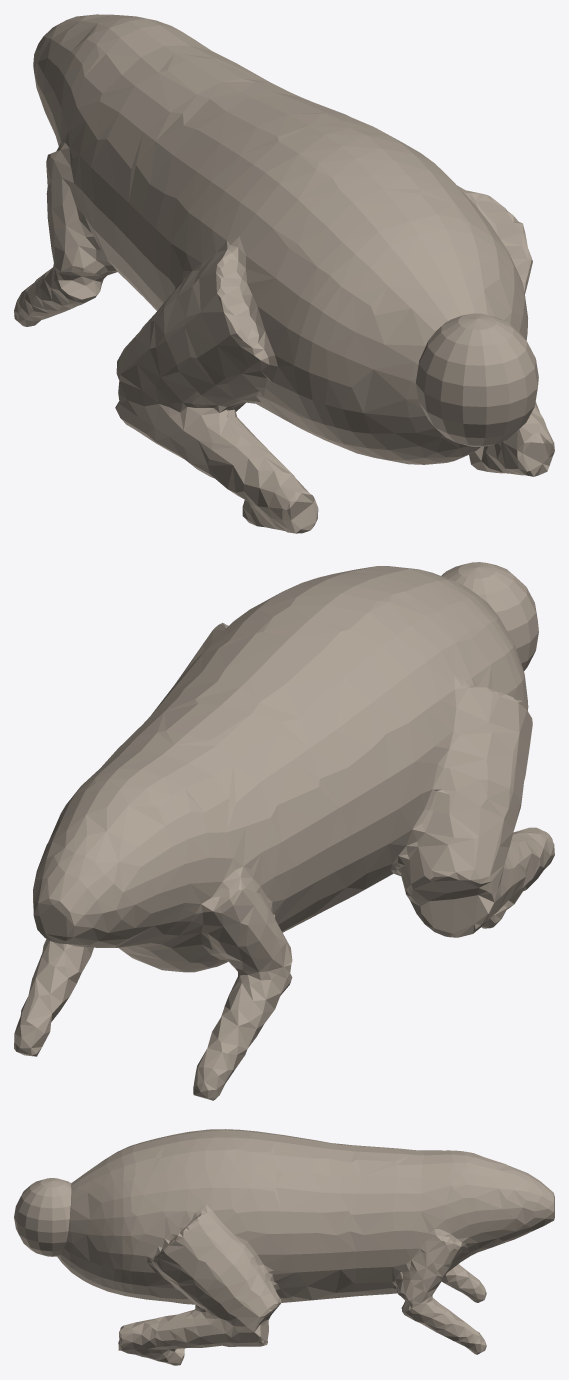
Rendered from rabbit_body_01.glb.
3 views of the same model, one above another, from view 1: azimuth 30°, elevation 25°; view 2: azimuth 150°, elevation 25°; view 3: azimuth 270°, elevation 25° (orthographic). The views are drawn at different scales.
Parts seen in each view (by area): view 1: ConnectedBodyTailLimbs, CottonTail; view 2: ConnectedBodyTailLimbs, CottonTail; view 3: ConnectedBodyTailLimbs, CottonTail.
Part boxes in pixels (x1=…): ConnectedBodyTailLimbs: x1=14, y1=14, x2=554, y2=533; CottonTail: x1=415, y1=313, x2=538, y2=446; ConnectedBodyTailLimbs: x1=14, y1=566, x2=554, y2=1100; CottonTail: x1=441, y1=562, x2=538, y2=670; ConnectedBodyTailLimbs: x1=57, y1=1129, x2=554, y2=1365; CottonTail: x1=14, y1=1178, x2=71, y2=1256.
Bounding box in the file's own units: 0.6689 × 0.5616 × 1.41.
